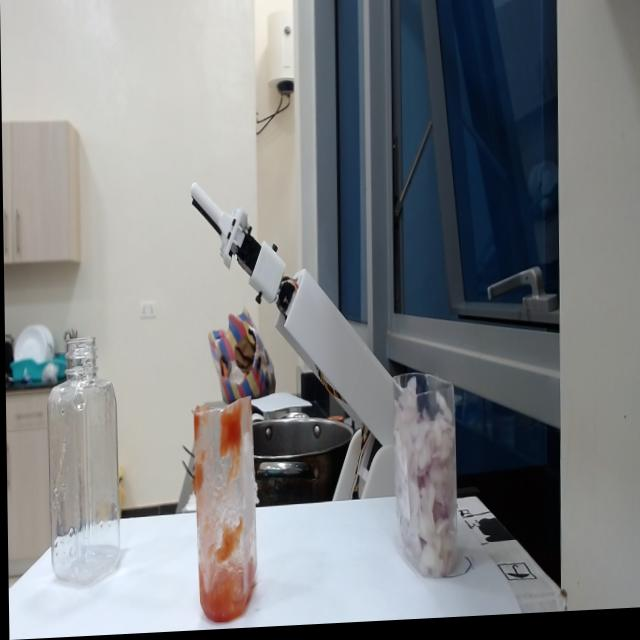blended_tomatoes_pepper: (192, 412, 250, 626)
cooking_pot: (251, 415, 356, 503)
sliced_onions: (393, 395, 458, 586)
